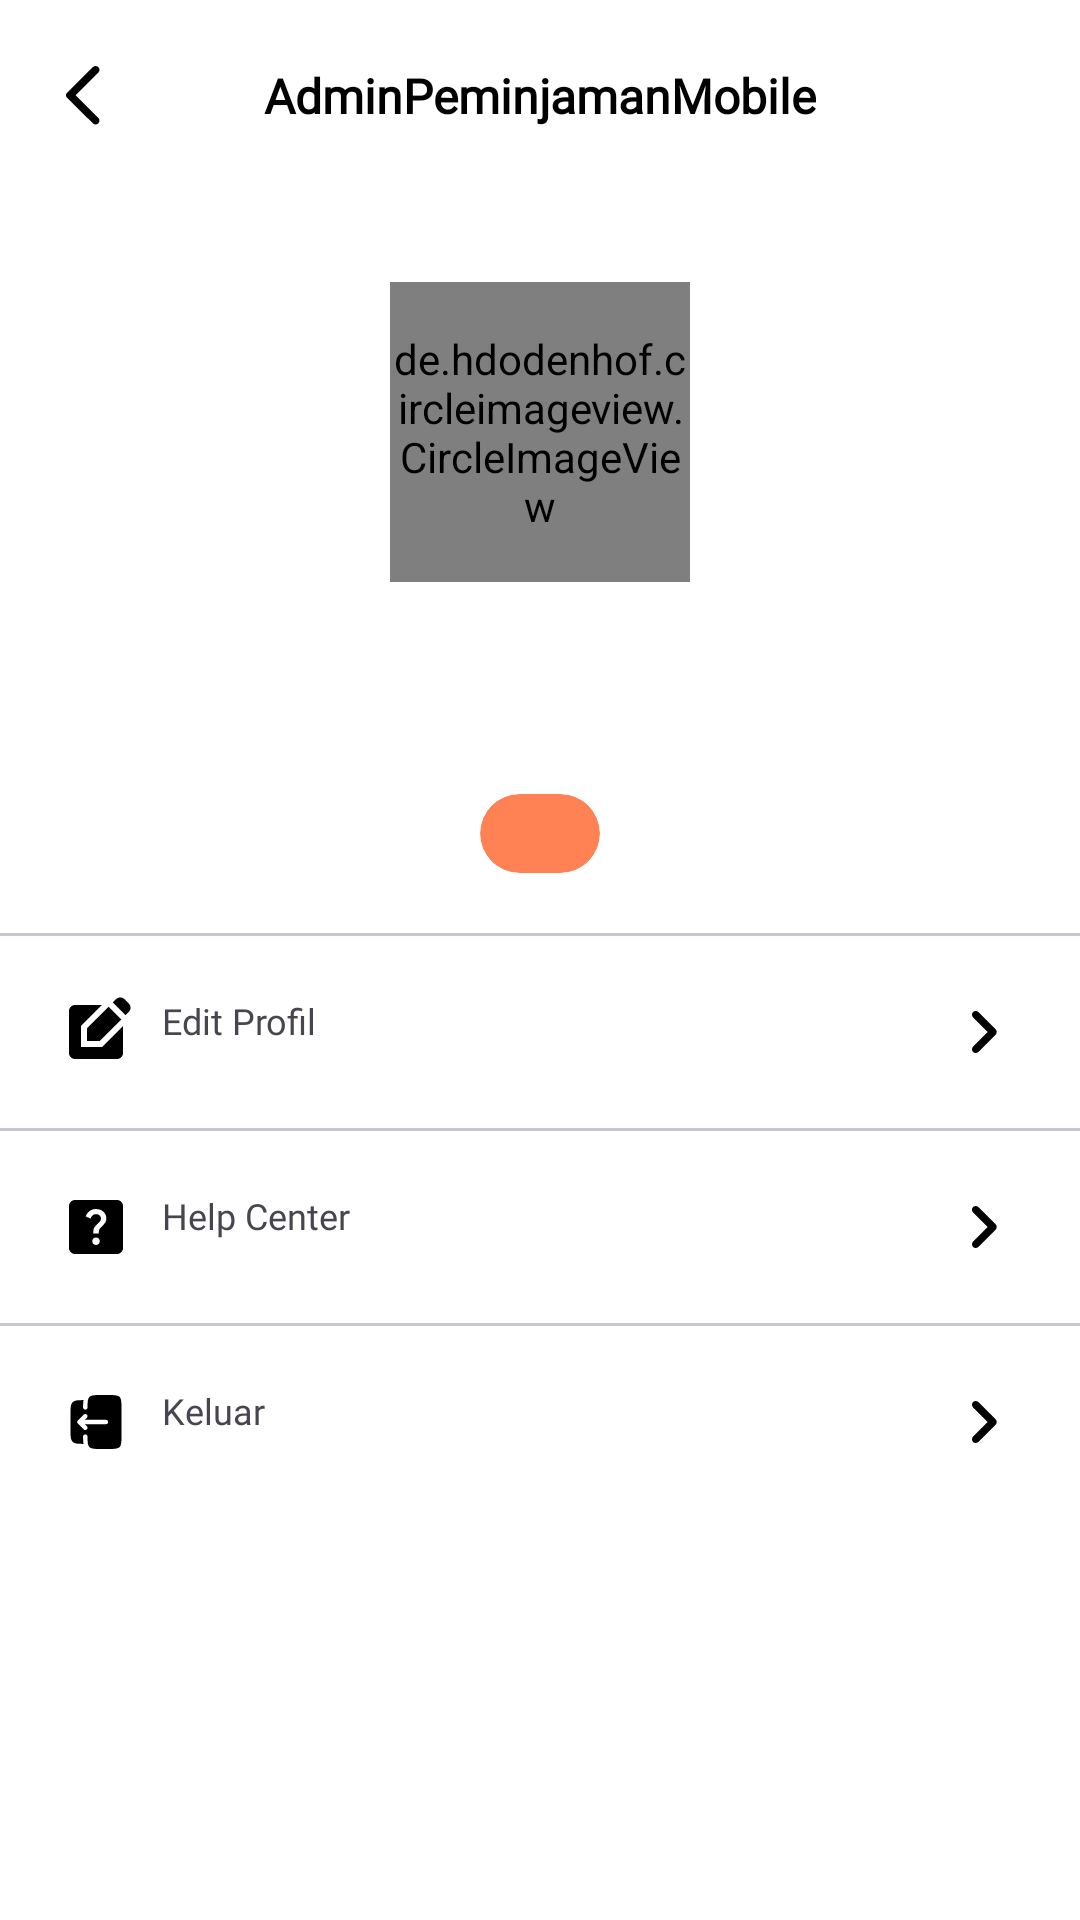

Icons on this 1080x1920 Android screen, each with its box as [left=x1, top=y1, right=x2, bottom=y2]:
arrow back: [left=66, top=66, right=100, bottom=125]
arrow next: [left=972, top=1011, right=997, bottom=1053], [left=972, top=1206, right=997, bottom=1248], [left=972, top=1401, right=997, bottom=1443]
